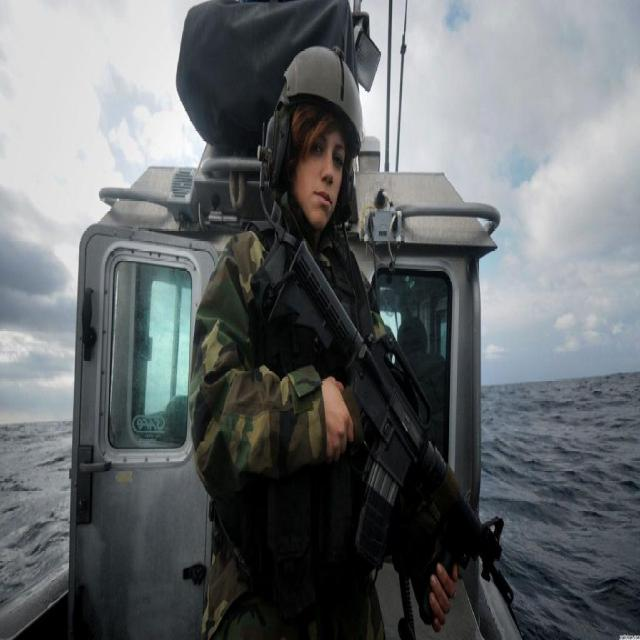nomask: (294, 95, 348, 229)
